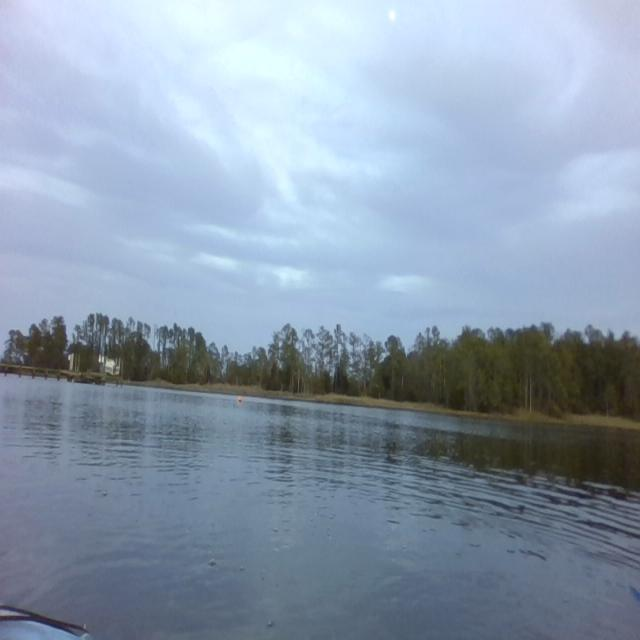Buoy: (237, 393, 243, 406)
